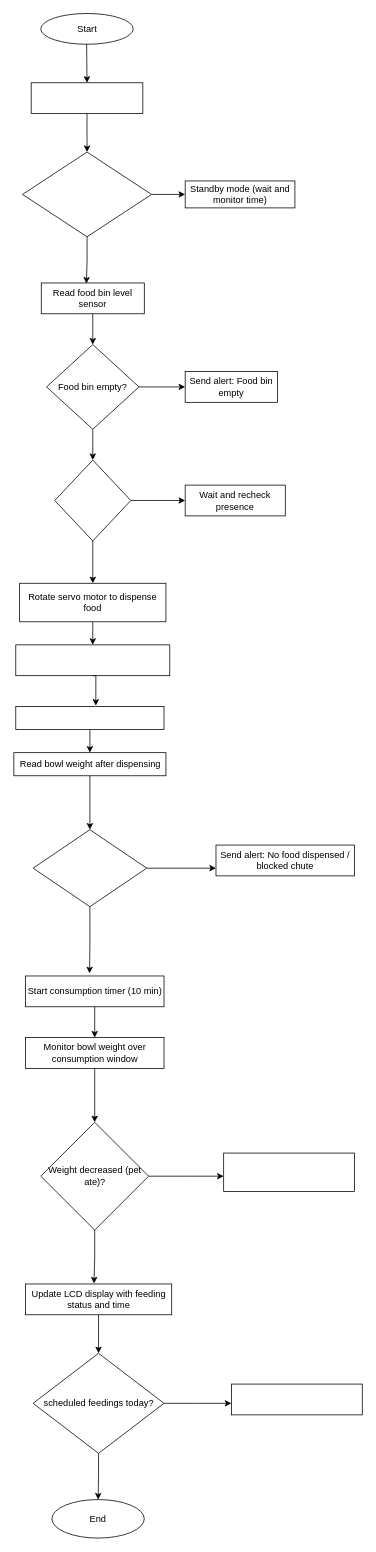
The diagram is 376 pixels wide and 1552 high, and some of its shapes have lost their labels. Here are the shapes that lost their labels. From the top down, the centre of each, then its label:
point 86,98: Initialize system and read RTC
point 87,194: Is the currrent time a scheduled feeding time?
point 92,500: Pet present?
point 92,660: Read bowl weight before dispensing
point 89,718: Rotate servo motor to dispense preset portion
point 89,868: Weight increased by expected threshold?
point 289,1172: Send alert: Food not eaten
point 296,1399: Return servo to closed position
